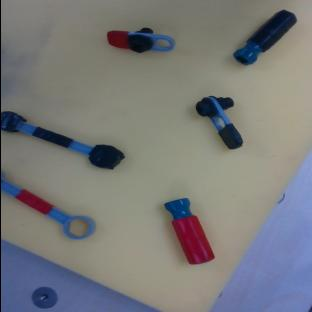part_1_bad: (193, 90, 244, 156)
part_1_good: (106, 26, 175, 55)
part_2_bad: (230, 5, 300, 70)
part_2_good: (162, 194, 215, 269)
part_3_bad: (0, 108, 126, 174)
part_3_good: (0, 172, 98, 246)
